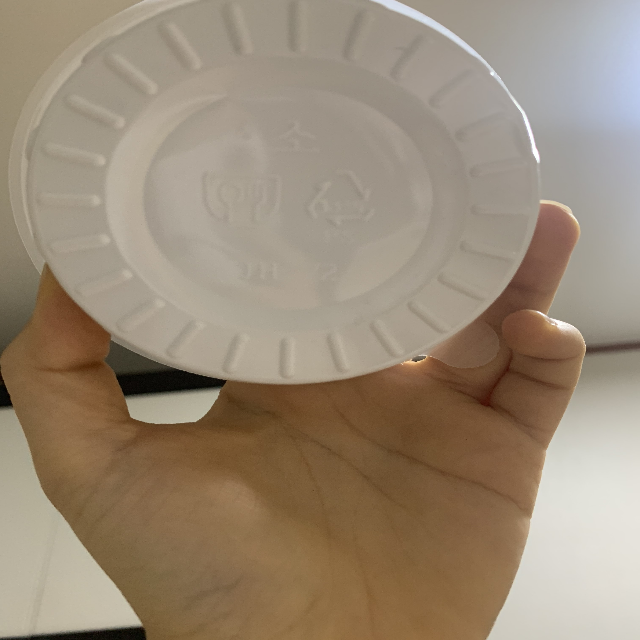ps: (303, 167, 372, 246)
